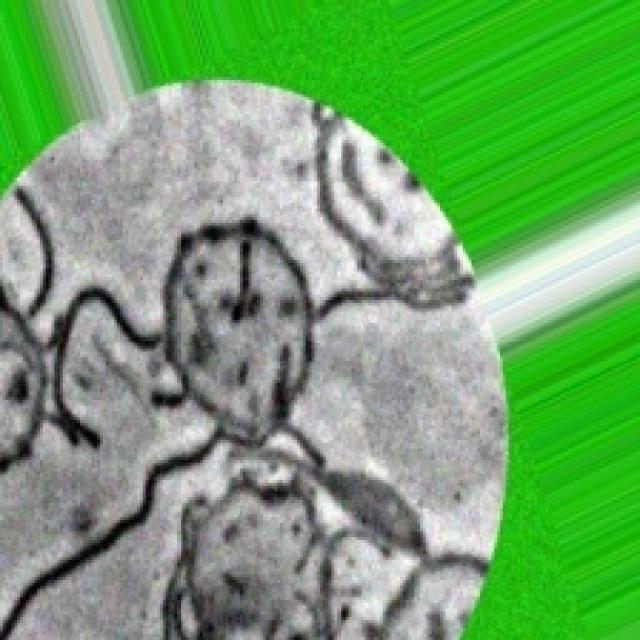Spiral_bacteria: (0, 77, 506, 637)
